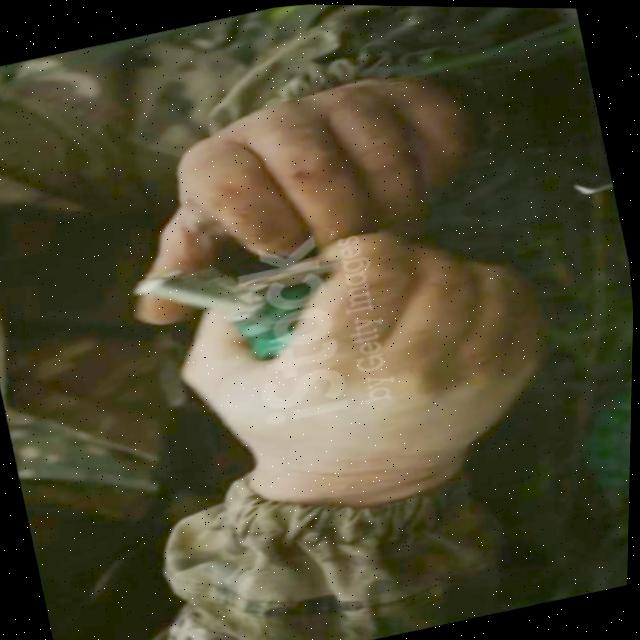grenade: (126, 234, 352, 380)
